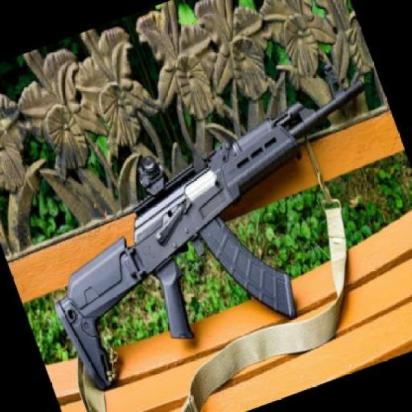Gun: (58, 67, 378, 374)
